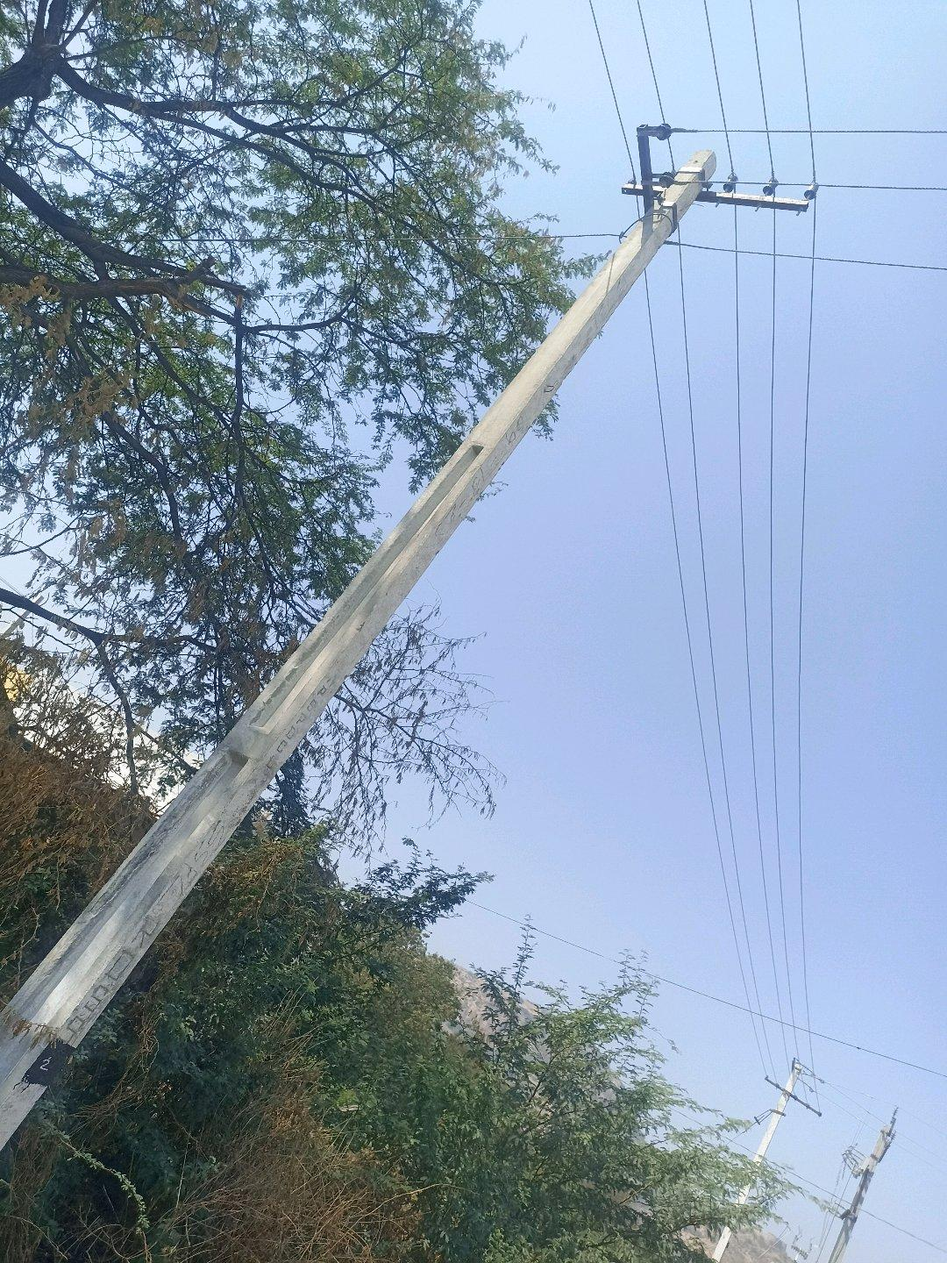{"0" "insulator", "1" "pole", "2" "crossarm", "3" "conductor", "4" "street_: (0, 120, 819, 1133), (752, 1060, 818, 1165), (764, 128, 904, 137), (710, 1228, 733, 1262), (739, 1185, 752, 1203), (737, 128, 754, 136), (719, 129, 728, 136), (564, 234, 572, 239), (577, 234, 584, 239)
